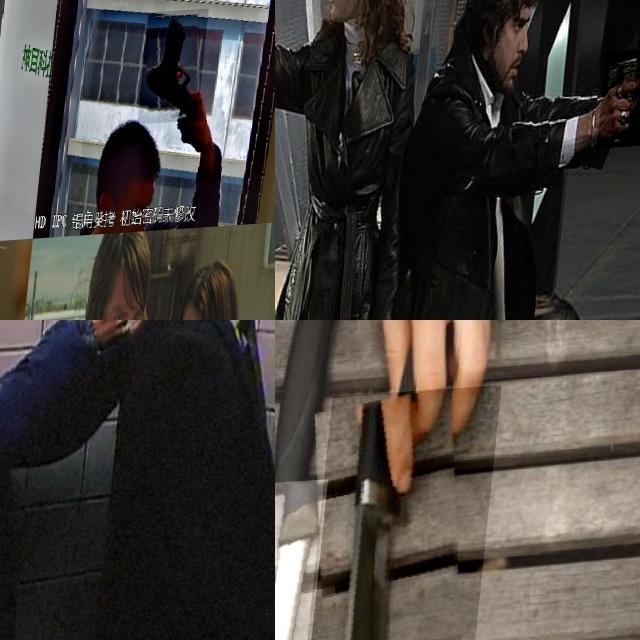-: (295, 389, 504, 640), (275, 481, 333, 640)
gun-knife-thesis - v11 Yolov5 augmented: (142, 15, 212, 130), (103, 320, 203, 358), (604, 56, 640, 156), (0, 4, 28, 92), (275, 0, 306, 61)
